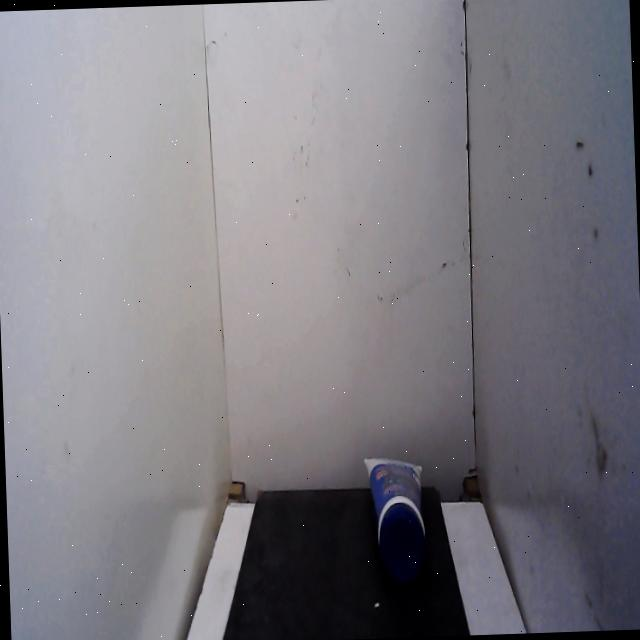plastic: (355, 442, 438, 608)
